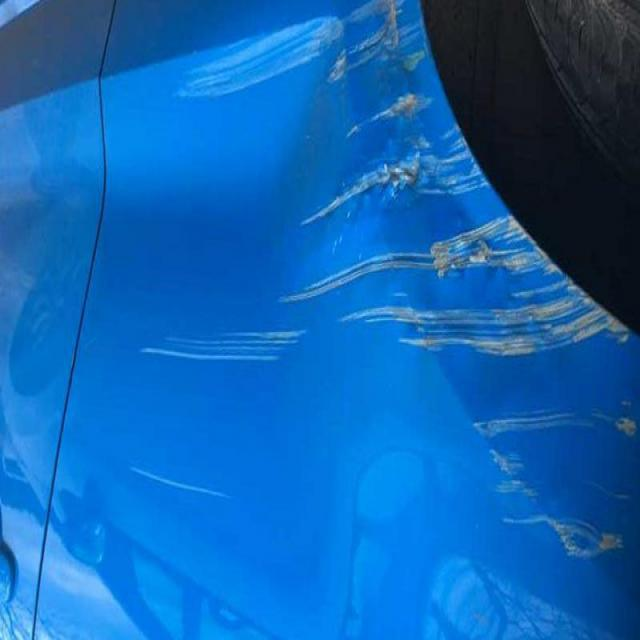scratch: (132, 28, 632, 380), (468, 402, 640, 576), (121, 440, 239, 510)
